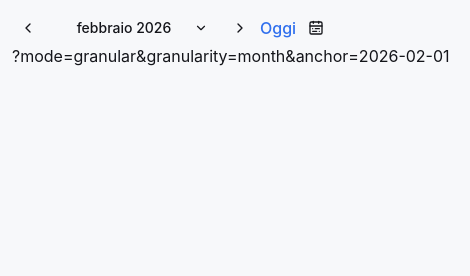
Test: PeriodNavigator › cambiare granularità dal menu ricalcola l'ancora sul bucket corrispondente
Click the button "febbraio 2026". click: (134, 28)
box: 48,12 -> 220,44
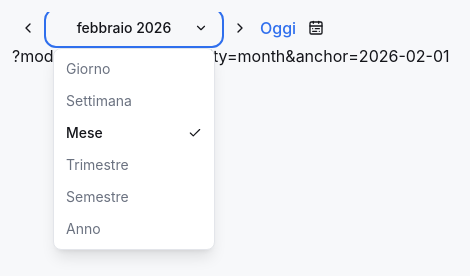
Click the menu item "Trimestre". click: (134, 165)
box: 58,149 -> 210,181
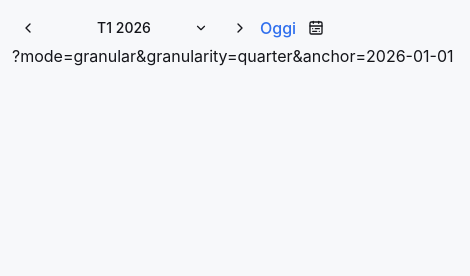
Result: the text with test id "location" shows "anchor=2026-01-01" at 12,46 -> 454,66
Result: the text with test id "location" shows "granularity=quarter" at 12,46 -> 454,66
